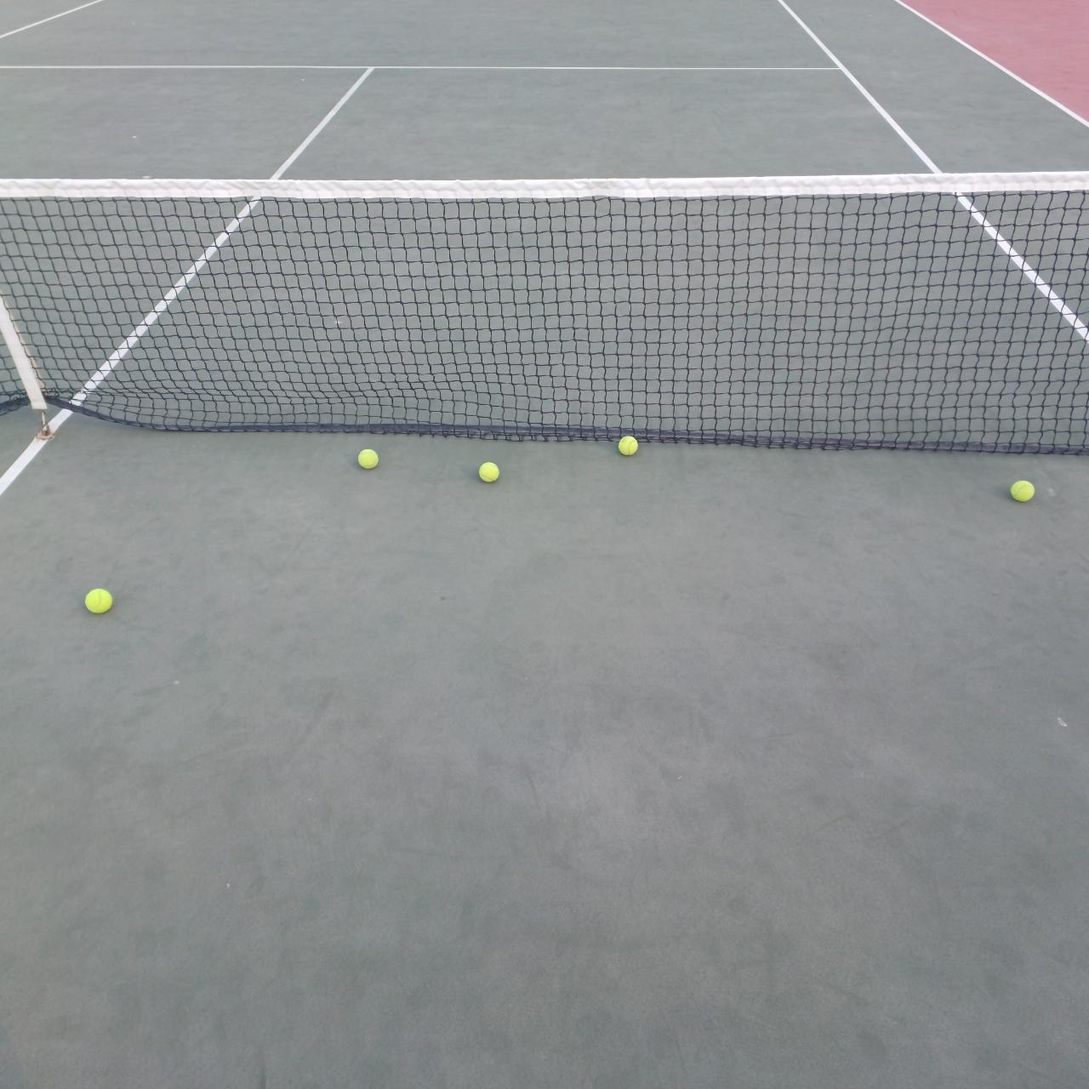tennis-ball: (83, 585, 113, 614), (1008, 477, 1035, 502), (356, 446, 379, 469), (616, 433, 638, 456), (477, 459, 499, 482)
